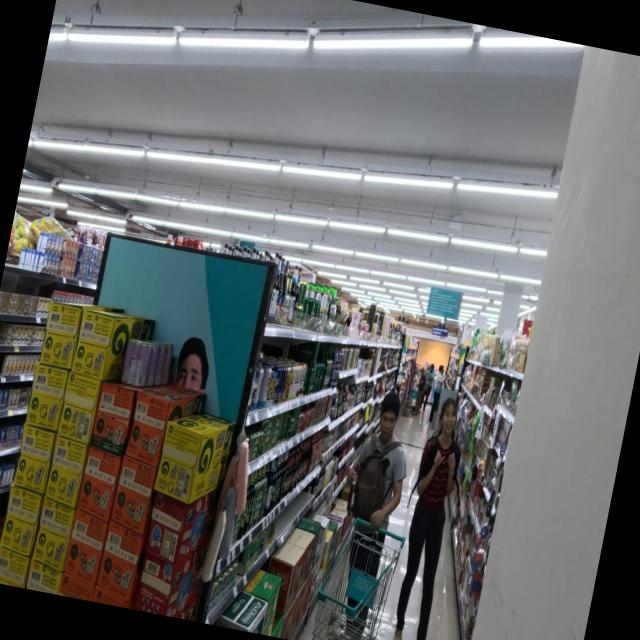shoplifting: (332, 386, 422, 557)
